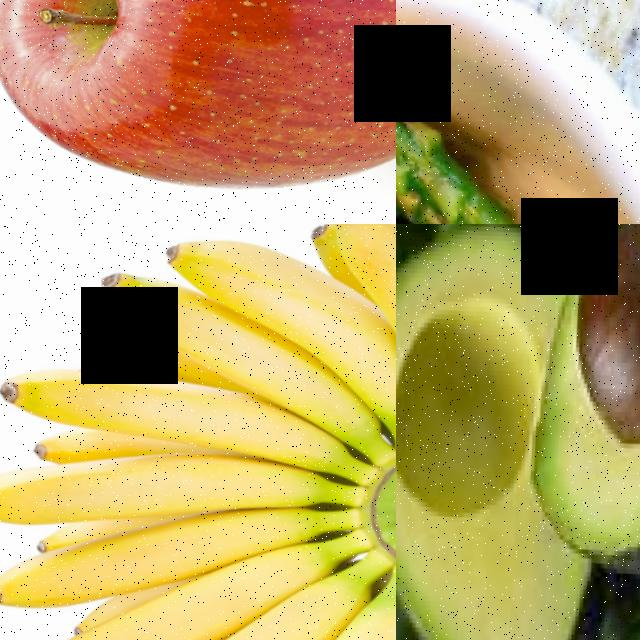apple: (0, 0, 396, 224)
asparagus: (396, 11, 640, 224)
avocado: (396, 224, 612, 640), (487, 224, 640, 607)
banana: (0, 224, 396, 640)
